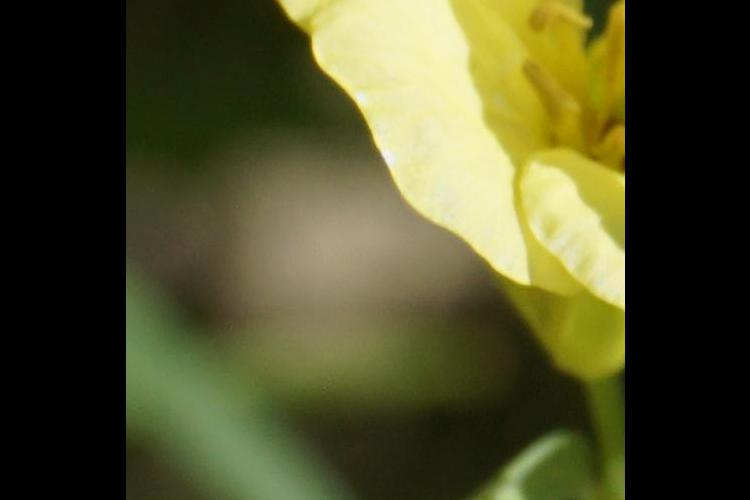yellow: (292, 1, 623, 401)
